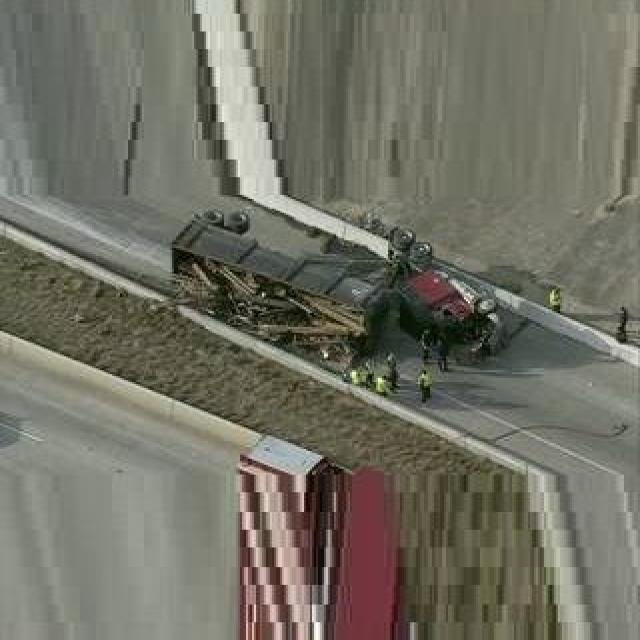traffic_incident: (160, 172, 512, 366)
